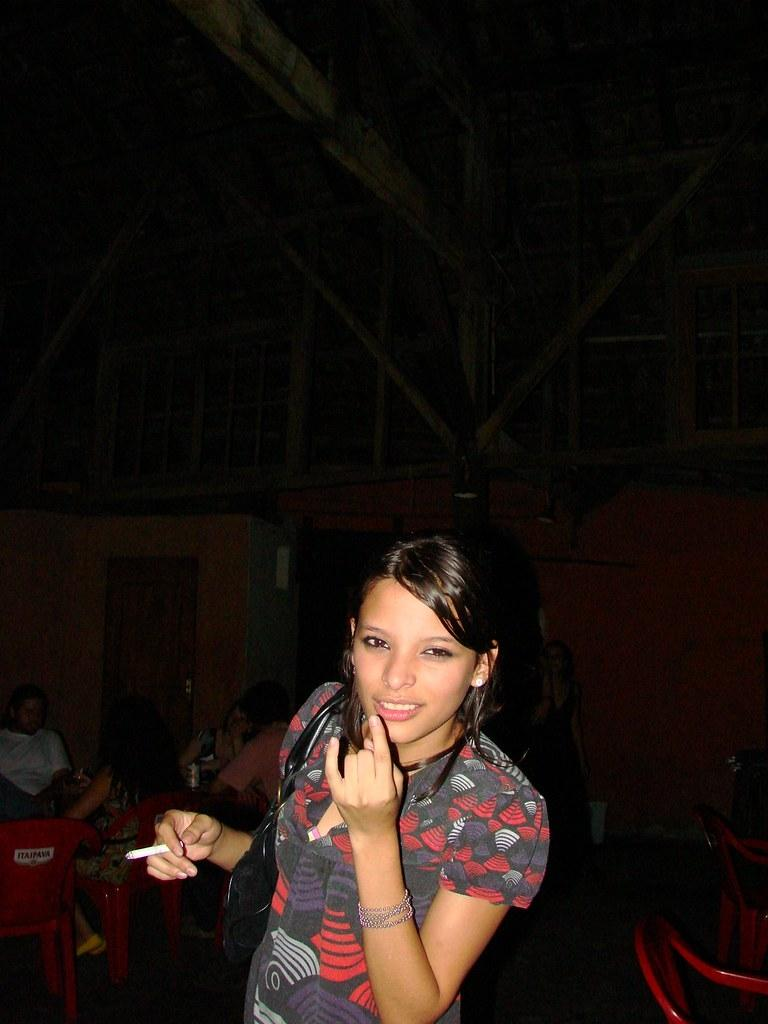cigarette: (122, 836, 172, 863)
